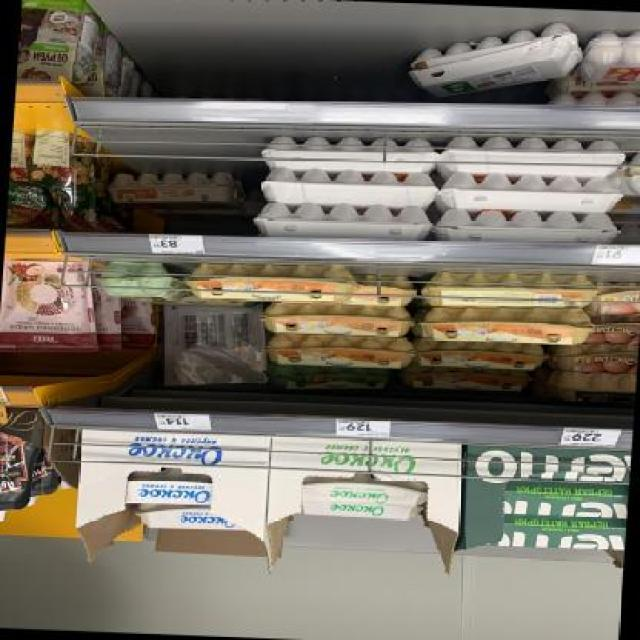Egg: (0, 255, 102, 354), (6, 125, 102, 229), (181, 261, 365, 307), (420, 304, 594, 351), (17, 0, 101, 89), (258, 301, 419, 339), (105, 170, 247, 212), (263, 332, 419, 370), (294, 472, 435, 508), (0, 408, 42, 526), (418, 339, 554, 372), (127, 501, 251, 534), (266, 364, 397, 394), (399, 365, 536, 393), (125, 468, 216, 507), (546, 372, 637, 409), (547, 340, 639, 376), (294, 502, 428, 526), (110, 297, 163, 353), (101, 261, 169, 297), (589, 281, 640, 317), (591, 312, 639, 346)
